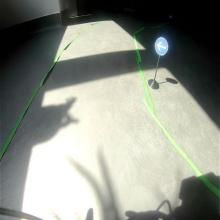left: (154, 36, 169, 56)
